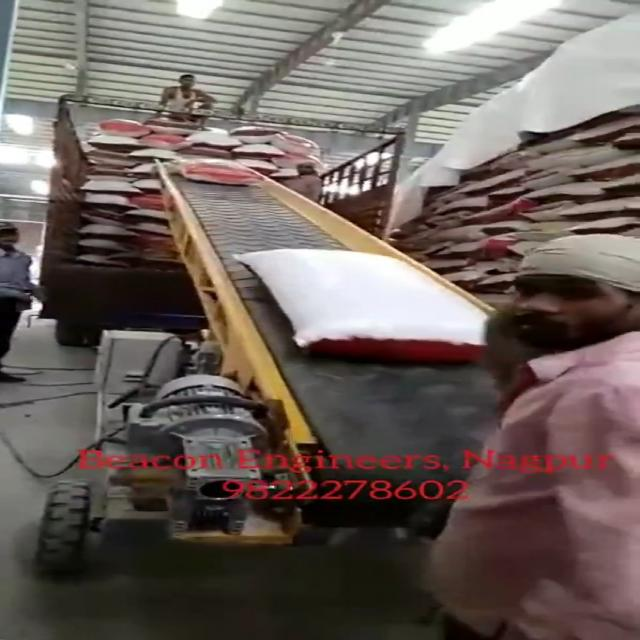Convoyeur: (141, 153, 640, 544)
